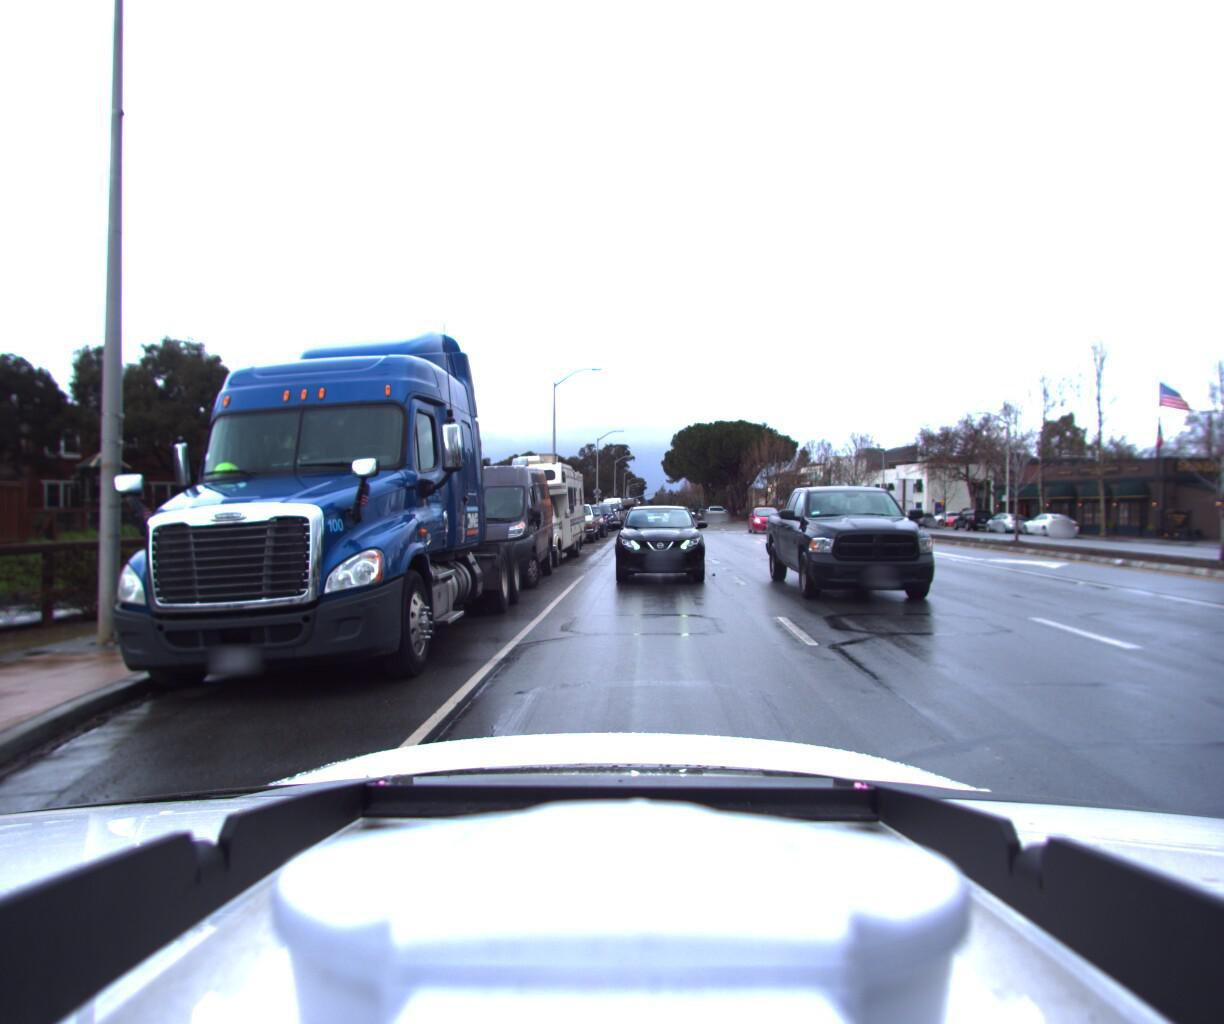car: (773, 475, 984, 620), (401, 443, 560, 593), (606, 503, 700, 586), (544, 496, 601, 544), (1015, 510, 1079, 538), (566, 500, 607, 538), (743, 508, 788, 538), (980, 509, 1031, 534), (583, 498, 617, 531), (950, 507, 993, 530), (703, 504, 728, 524)
other_vehicle: (470, 449, 586, 571), (599, 492, 624, 523)
truck: (36, 208, 521, 728)
